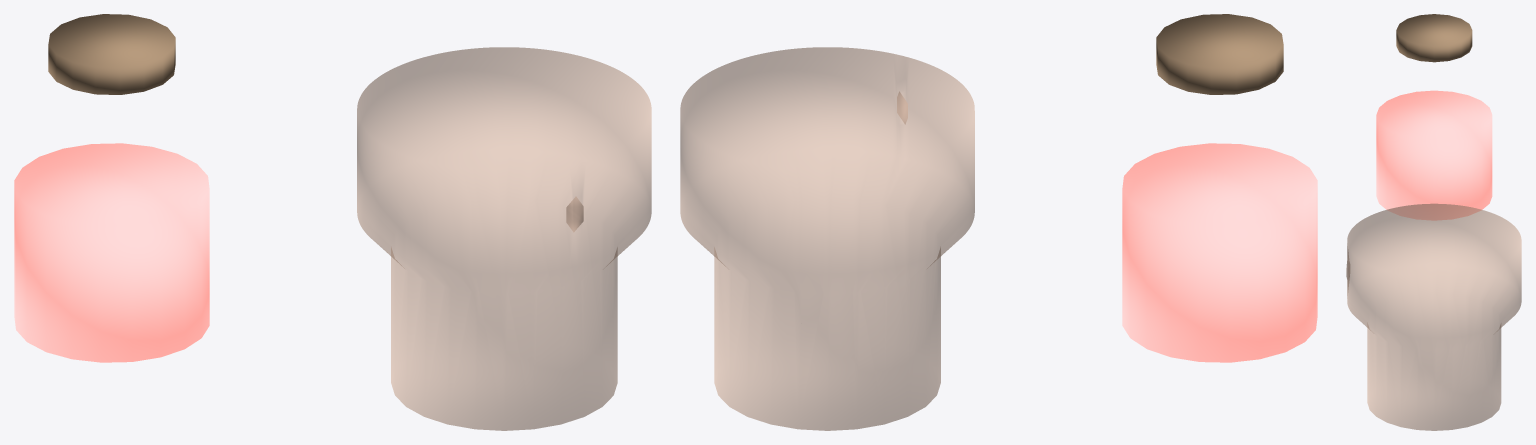
File: potion_bottle_r4_v3.glb
3 renders of one model, left to right at view 1: azimuth 30°, elevation 25°; view 2: azimuth 150°, elevation 25°; view 3: azimuth 270°, elevation 25°, orthographic. The views are drawn at different scales.
Parts seen in each view (by area): view 1: potion_bottle_lp, potion_liquid, potion_cork; view 2: potion_bottle_lp, potion_liquid, potion_cork; view 3: potion_bottle_lp, potion_liquid, potion_cork.
Part boxes in pixels (x1=…): potion_bottle_lp: x1=357, y1=47, x2=651, y2=430; potion_liquid: x1=14, y1=143, x2=209, y2=362; potion_cork: x1=48, y1=14, x2=175, y2=94; potion_bottle_lp: x1=680, y1=47, x2=974, y2=430; potion_liquid: x1=1122, y1=143, x2=1317, y2=362; potion_cork: x1=1156, y1=14, x2=1283, y2=94; potion_bottle_lp: x1=1346, y1=203, x2=1521, y2=430; potion_liquid: x1=1376, y1=90, x2=1492, y2=220; potion_cork: x1=1396, y1=14, x2=1472, y2=62.
Size of the model in its own units: 0.925 by 0.64 by 0.3917.
